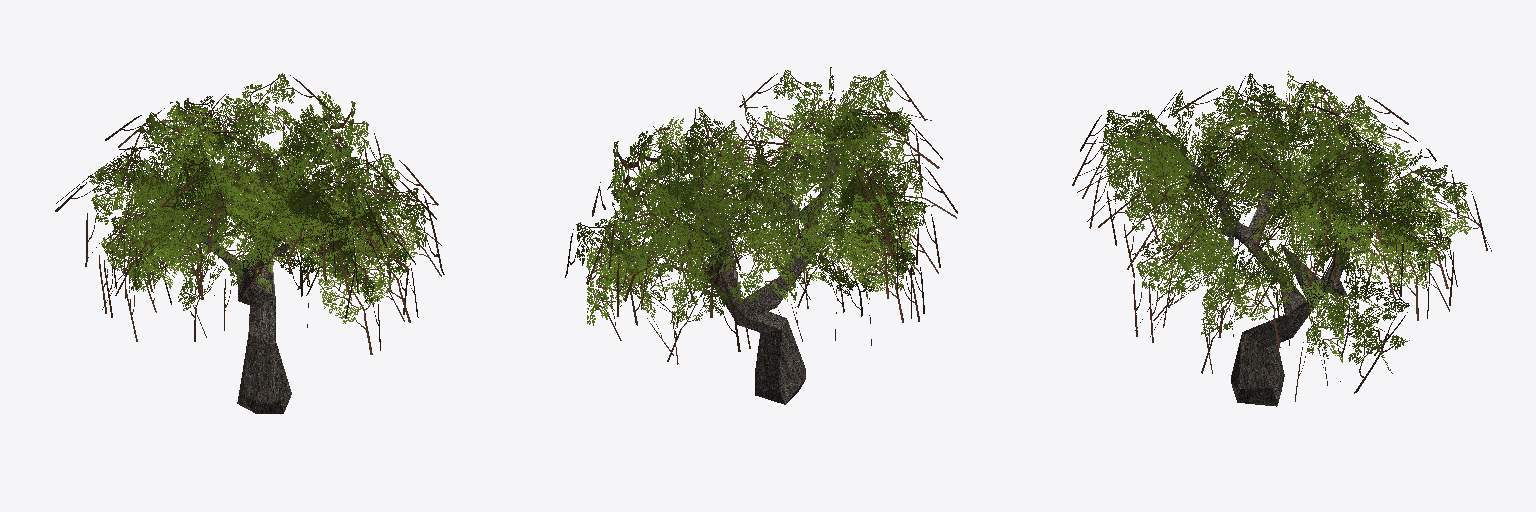
3 renders of one model, left to right at view 1: azimuth 30°, elevation 25°; view 2: azimuth 150°, elevation 25°; view 3: azimuth 270°, elevation 25°, orthographic.
Parts seen in each view (by area): view 1: Branches, Trunk; view 2: Branches, Trunk; view 3: Branches, Trunk.
Part boxes in pixels (left/top/right/bottom): Branches: left=55, top=73, right=444, bottom=354; Trunk: left=177, top=151, right=337, bottom=413; Branches: left=565, top=67, right=957, bottom=364; Trunk: left=657, top=130, right=843, bottom=404; Branches: left=1072, top=71, right=1491, bottom=401; Trunk: left=1180, top=151, right=1381, bottom=406.
Size of the model in its own units: 27.42 by 21.21 by 28.89.
2 materials, 2 textured.